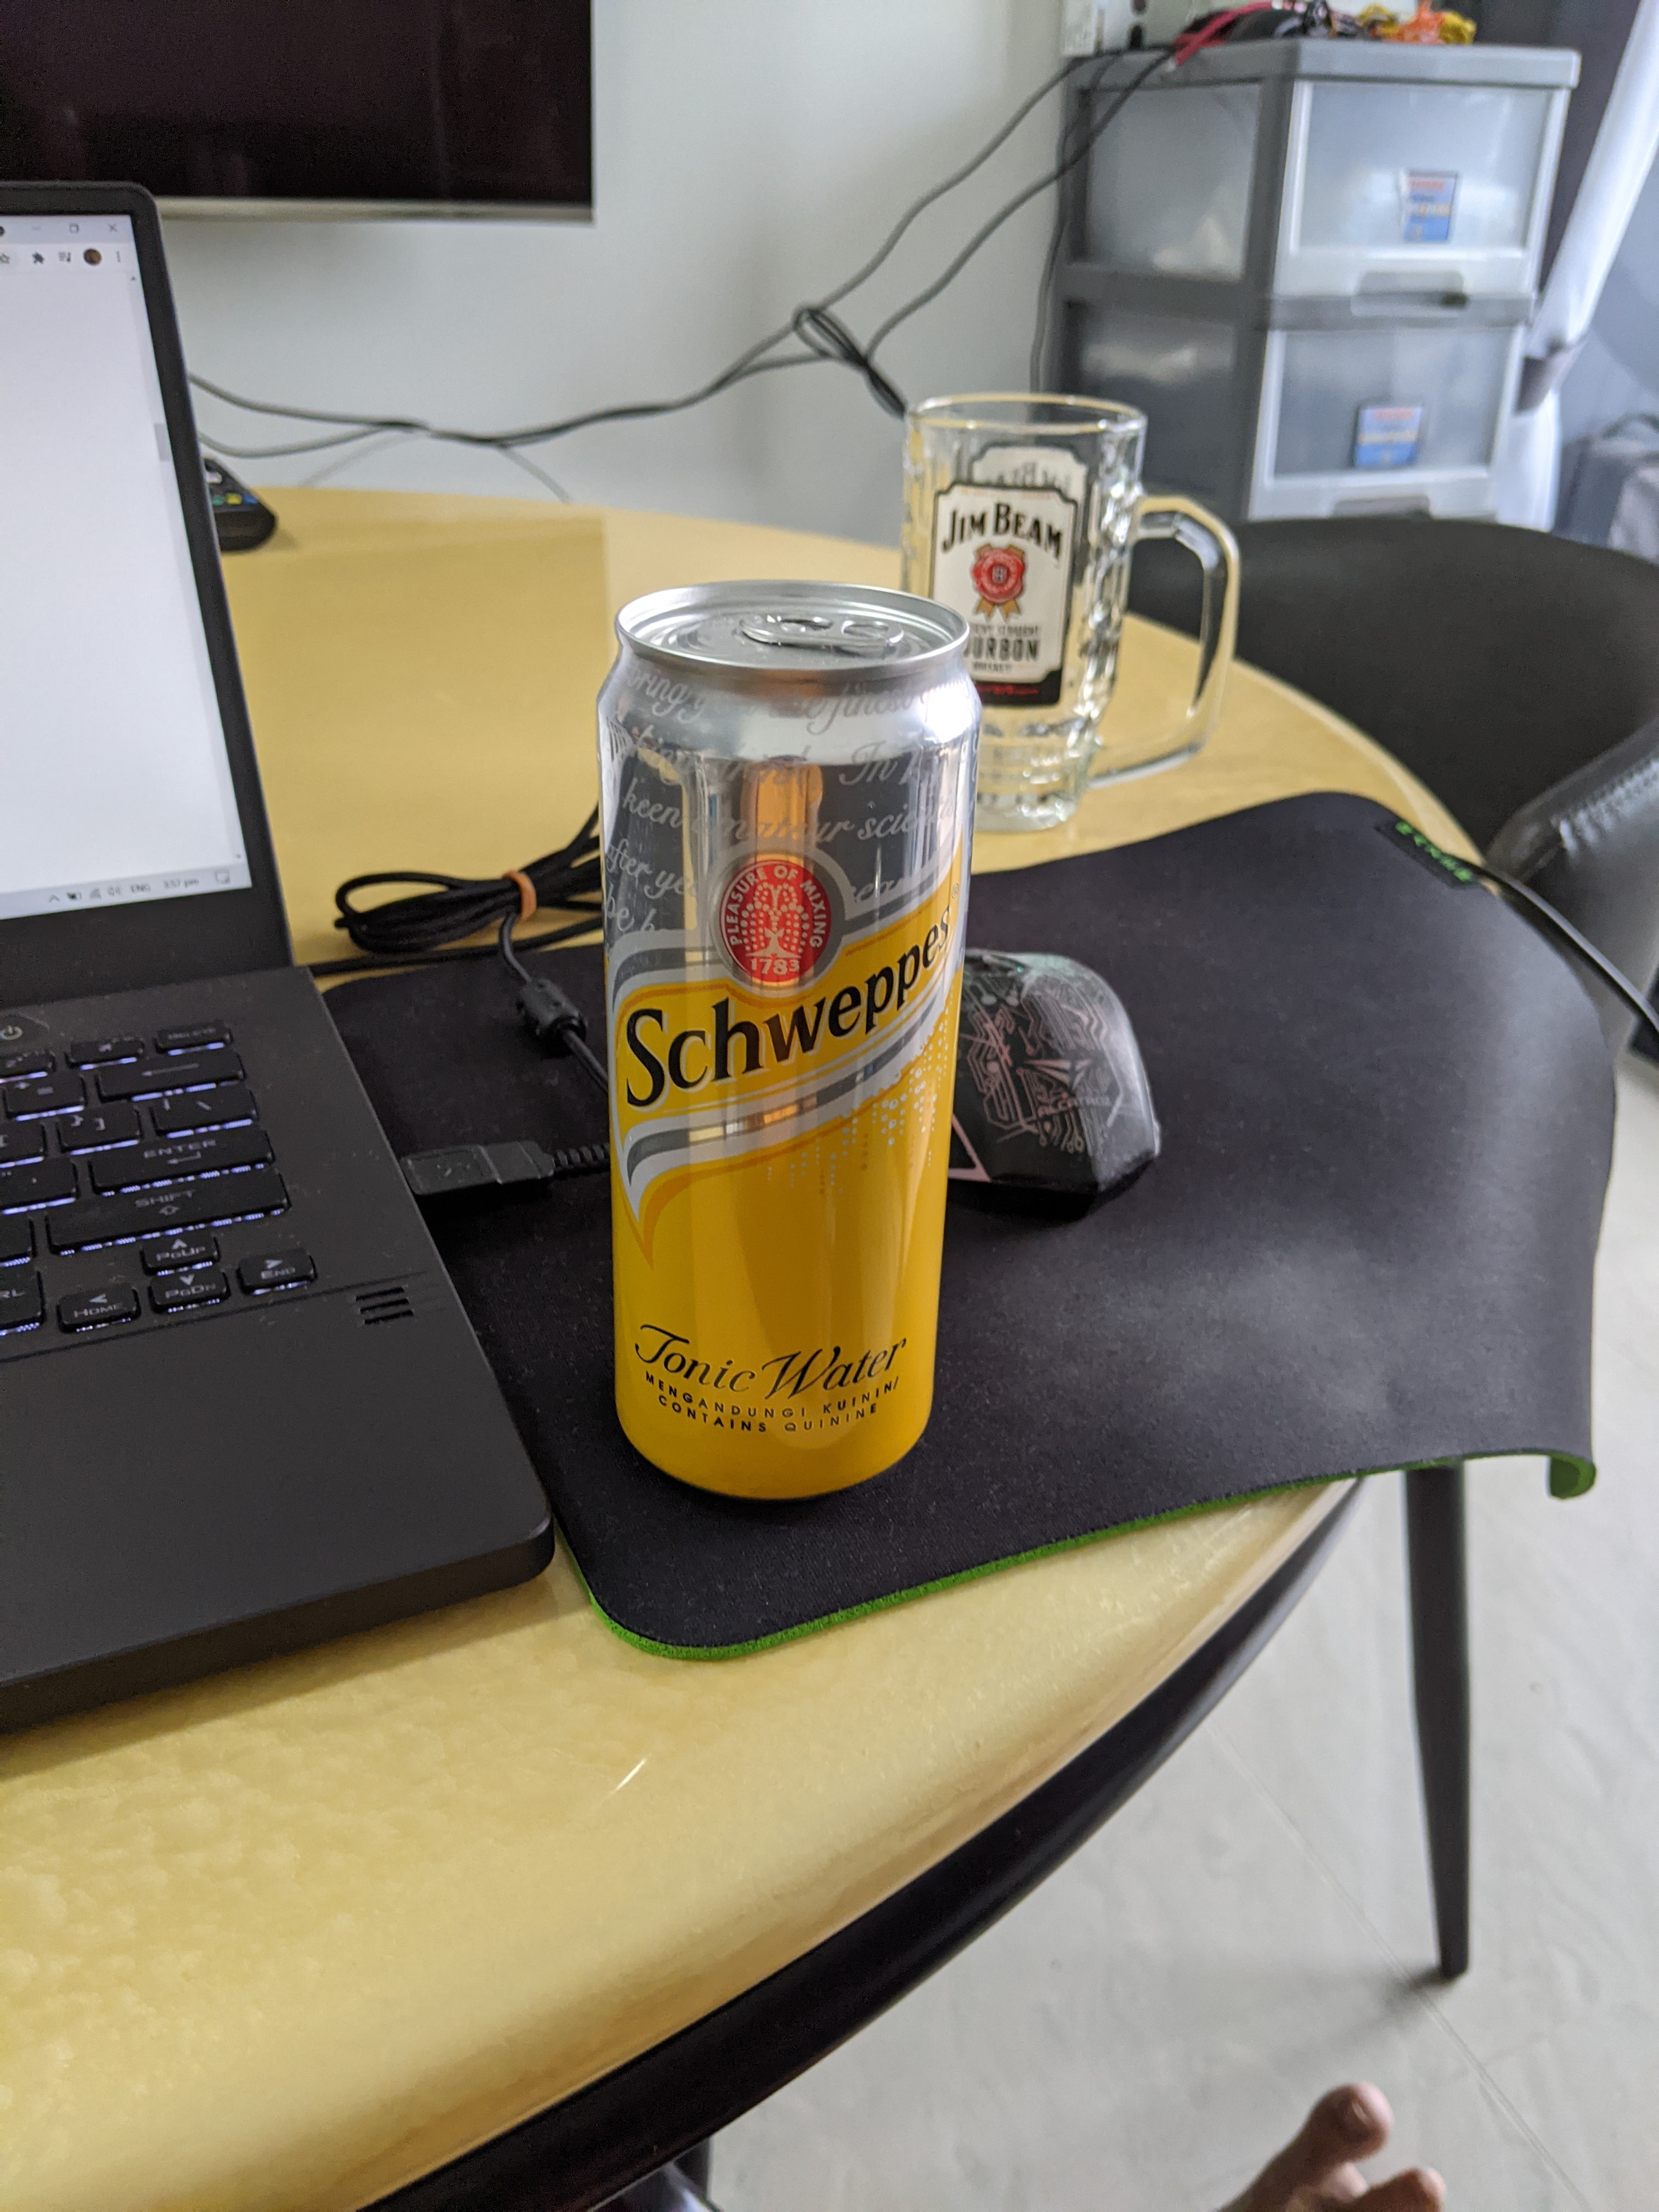schweppes drink can tonic water: (561, 556, 1021, 1554)
